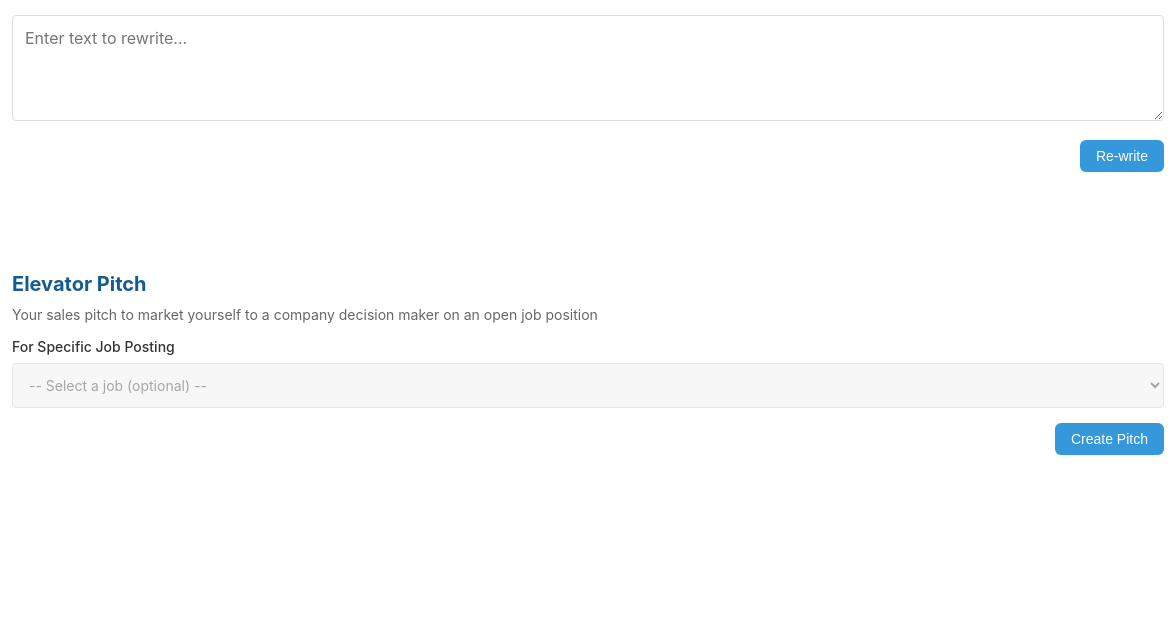
Test case: Tools Component › Elevator Pitch Functionality › displays pitch result
What coordinates should you click on to do the following:
click the button "Create Pitch"
I would click on:
 (1110, 439)
Its box is [1055,423,1164,455].
(page scrolled)
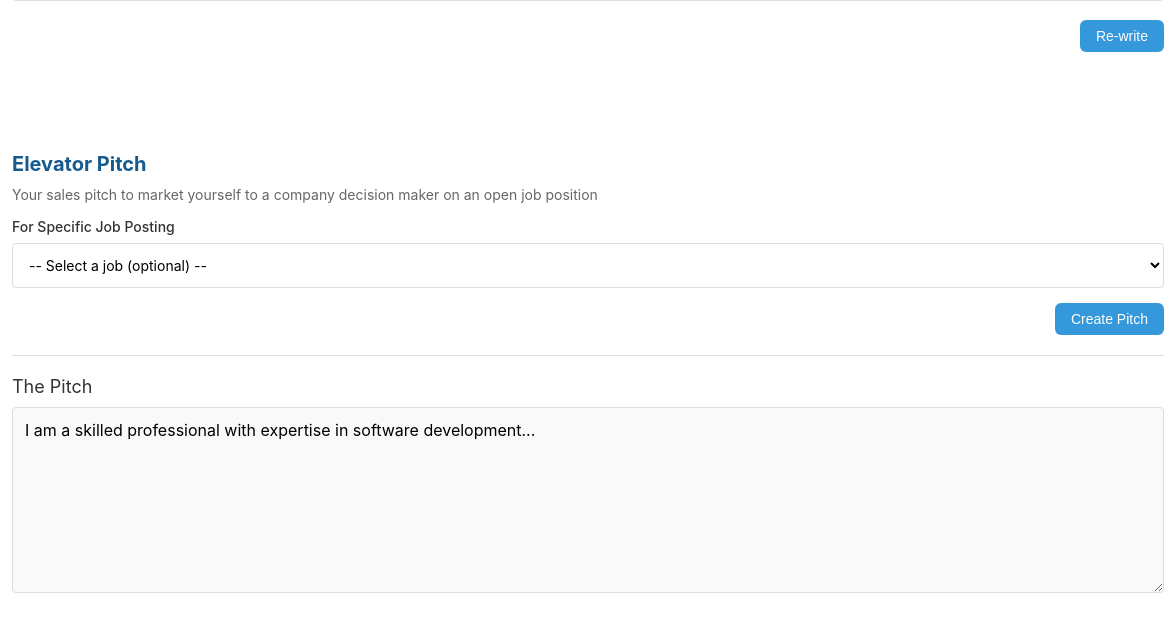
Expected: the heading "The Pitch" is shown, [12,376,92,397]
Expected: the text box showing "I am a skilled professional" is shown, [12,407,1164,593]
